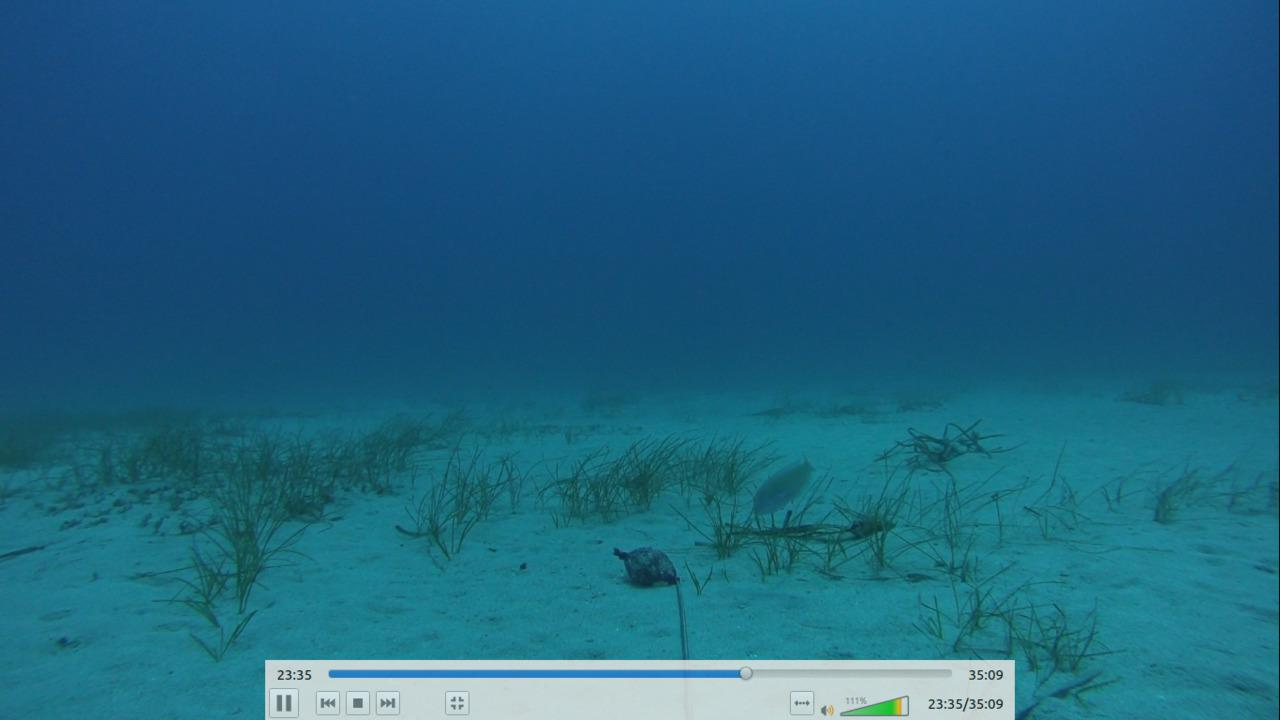raor: (749, 453, 817, 518)
